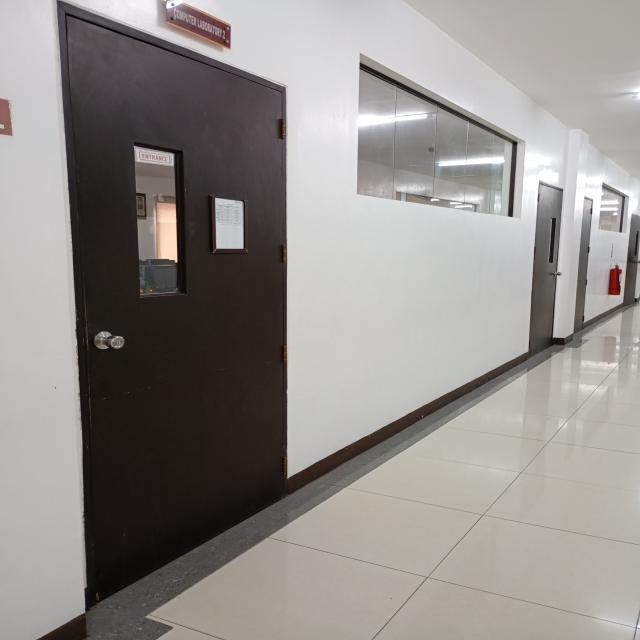door: (44, 0, 313, 616)
